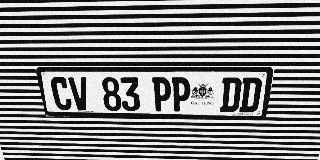3: (120, 77, 140, 111)
8: (101, 77, 122, 111)
C: (49, 77, 73, 110)
D: (239, 77, 263, 112), (220, 77, 242, 112)
P: (172, 77, 191, 112), (152, 77, 171, 111)
V: (68, 77, 91, 110)
